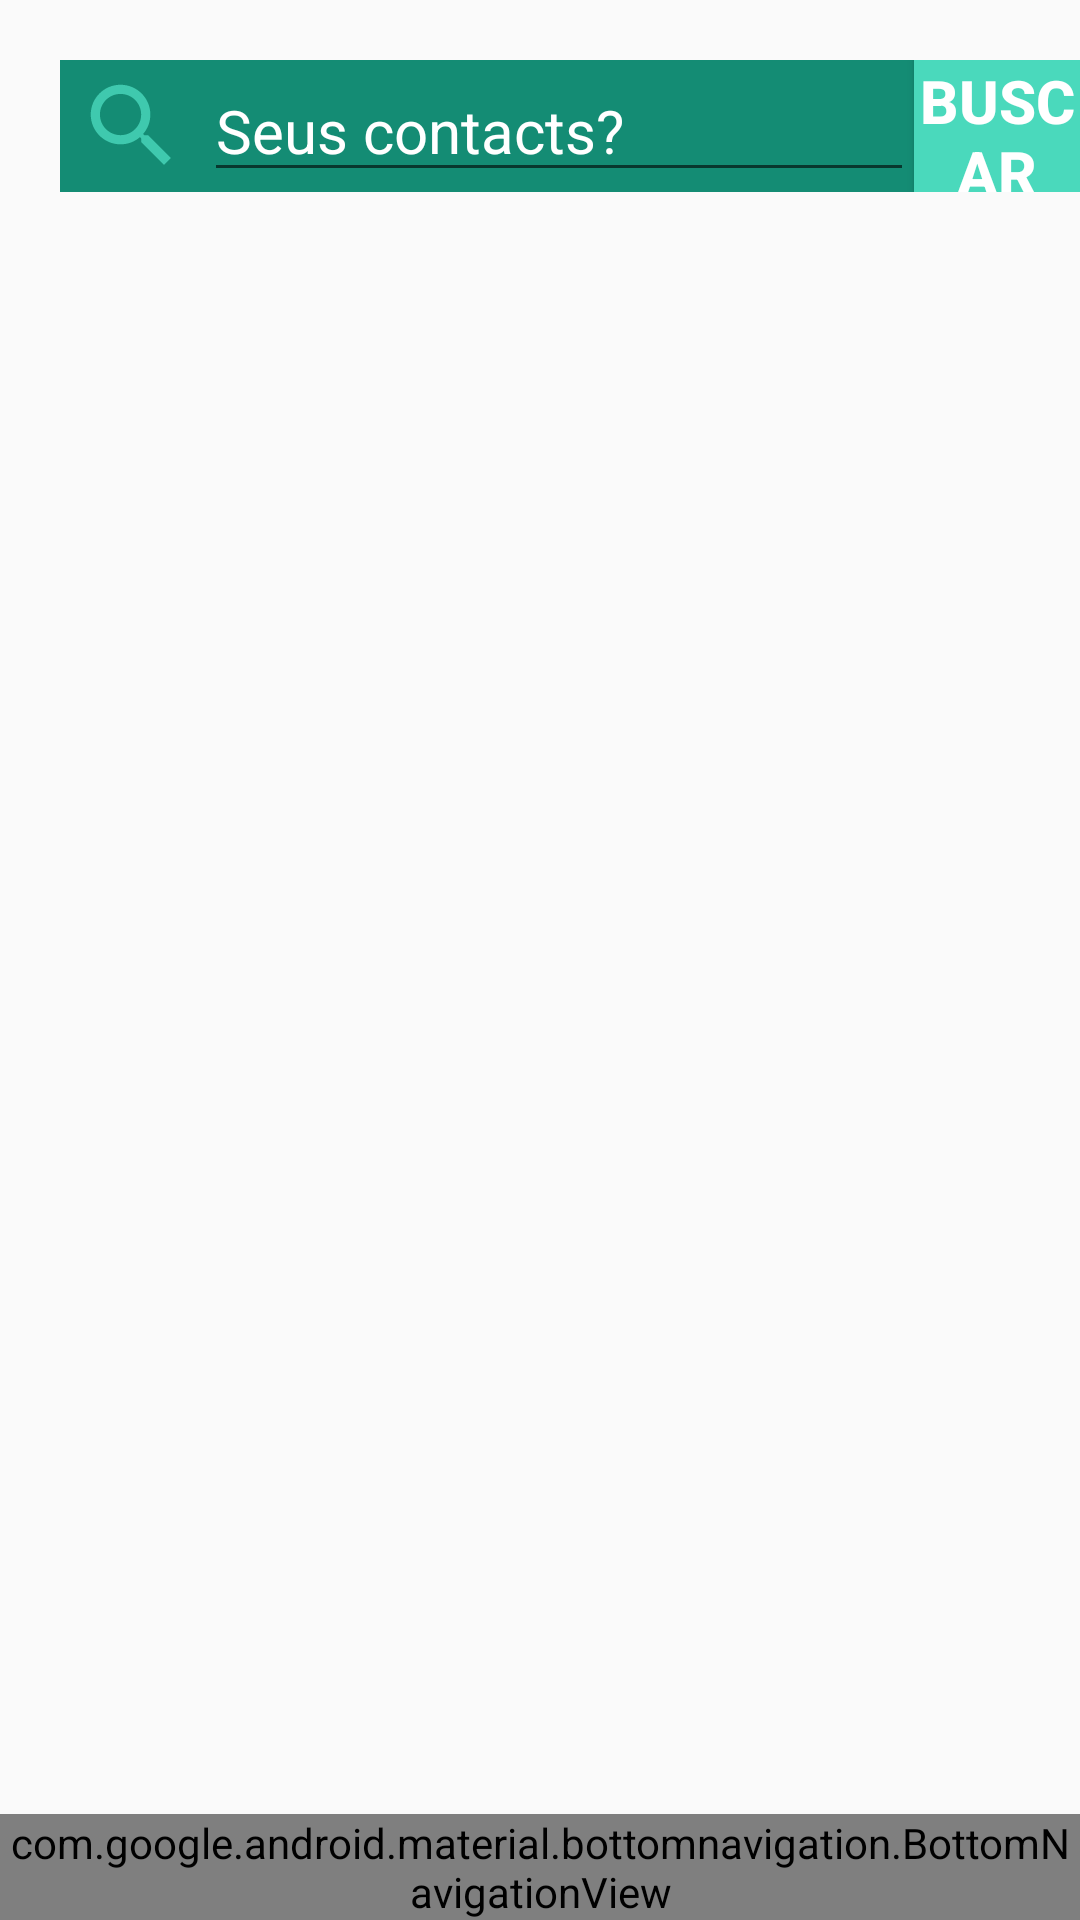

Named icons in this screenshot (1080*1920) and their bounding boxes, BBox(x1, y1, x2, y2):
Lupa: BBox(60, 60, 204, 192)
